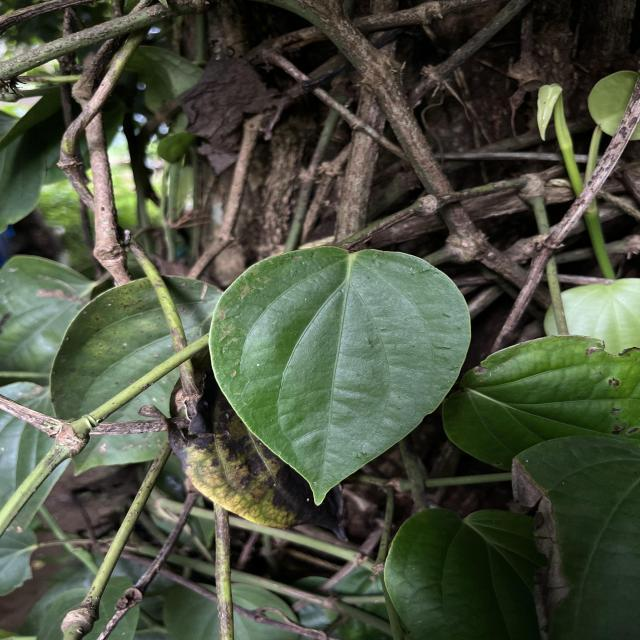Piper nigrum: (206, 244, 474, 508)
